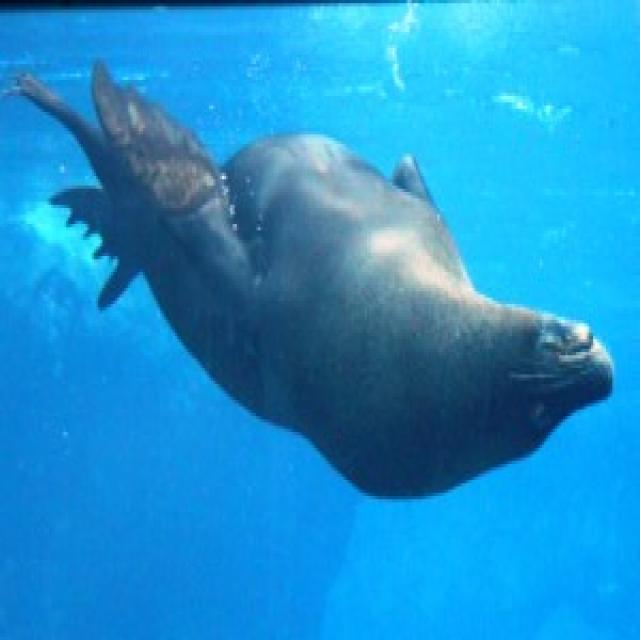Seal: (8, 27, 615, 511)
